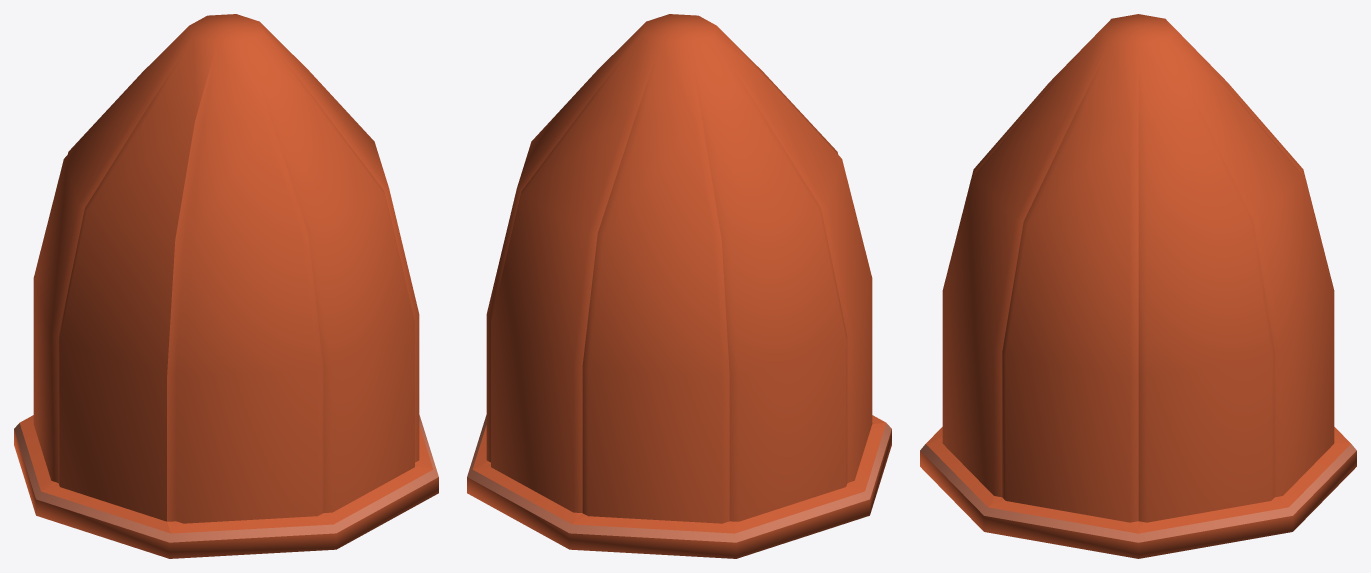
The model's file is Cap.fbx.
3 renders of one model, left to right at view 1: azimuth 30°, elevation 25°; view 2: azimuth 150°, elevation 25°; view 3: azimuth 270°, elevation 25°, orthographic.
Visible parts, largest first — view 1: Cap; view 2: Cap; view 3: Cap.
Boxes of the visible parts, left/top/right/bottom form: Cap: left=14, top=14, right=438, bottom=558; Cap: left=467, top=14, right=891, bottom=558; Cap: left=920, top=14, right=1356, bottom=558.
Bounding box in the file's own units: 0.437 × 0.4855 × 0.437.
